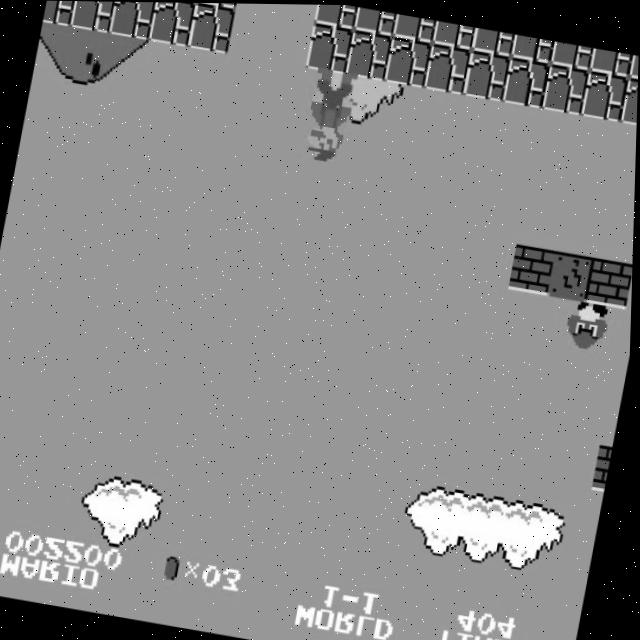0- big_mario: (299, 65, 358, 166)
1- brick_block: (509, 242, 558, 295), (587, 255, 634, 307), (594, 444, 615, 490)
13- mystery_block: (548, 249, 597, 302)
17- undestructible_block: (423, 41, 473, 94), (305, 22, 355, 74), (541, 62, 591, 114), (345, 28, 394, 81), (384, 35, 433, 88), (463, 48, 512, 101), (581, 68, 630, 121), (187, 2, 236, 54), (502, 55, 551, 107), (148, 2, 197, 47), (108, 1, 157, 40), (69, 1, 118, 33), (471, 26, 516, 56), (589, 46, 634, 76), (353, 6, 397, 36), (392, 13, 437, 42), (431, 20, 476, 49), (510, 33, 555, 62), (550, 40, 594, 69), (313, 4, 358, 28), (42, 1, 78, 27), (620, 75, 638, 127), (628, 53, 639, 82), (195, 2, 239, 9)
